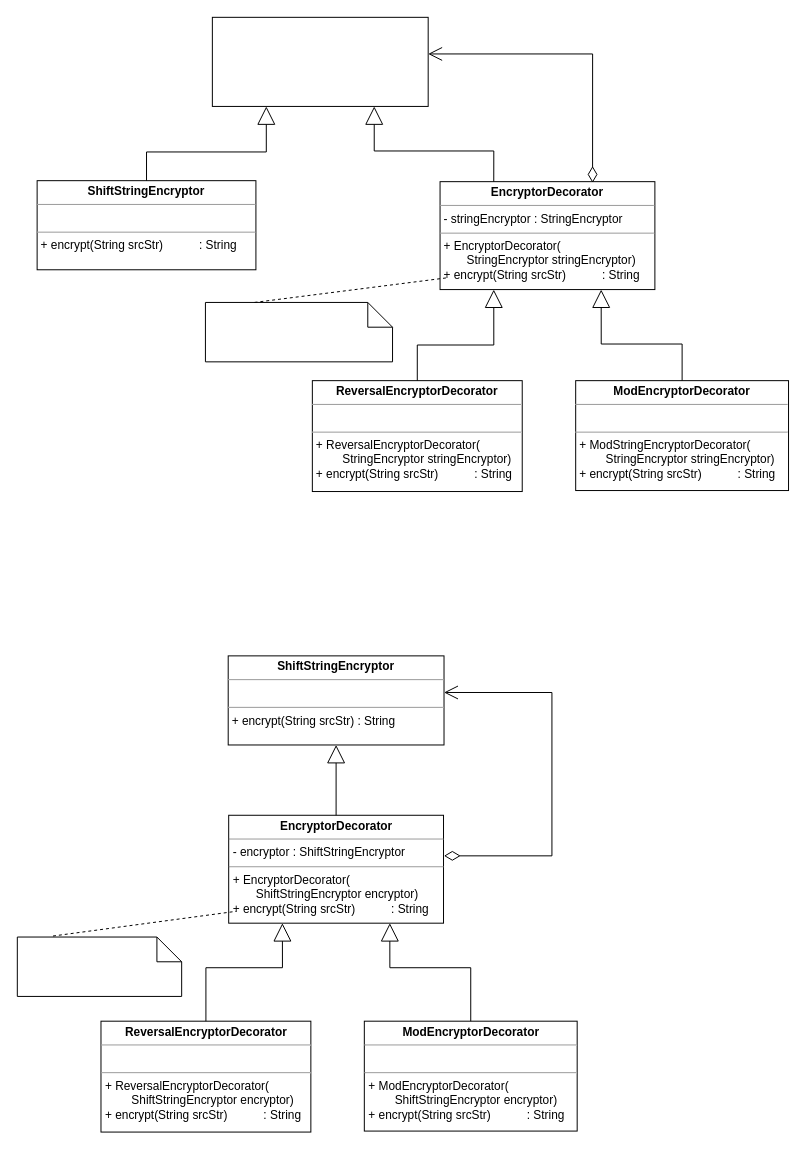
The diagram is 806 pixels wide and 1149 high, and some of its shapes have lost their labels. Each missing label, with the centre of its shape:
encryptor.encrypt(srcStr);: pixel 99 966
StringEncryptor {abstract} + encrypt(String srcStr) : String: pixel 319 61
stringEncryptor.encrypt(srcStr);: pixel 298 331
